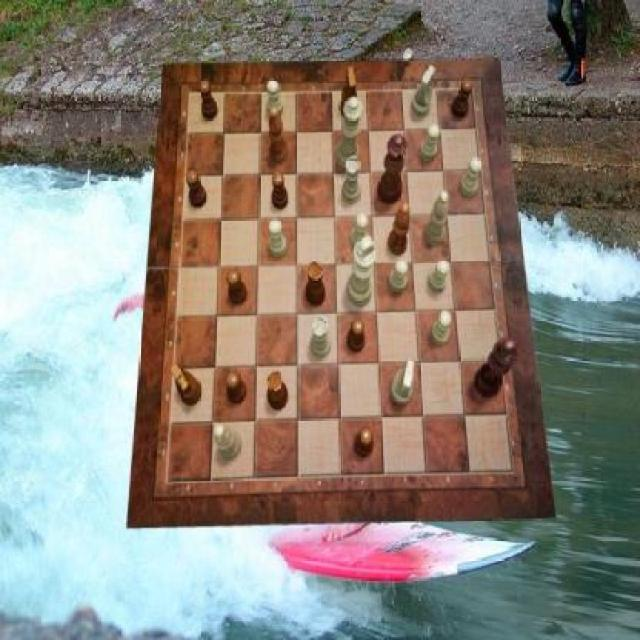bishop: (388, 202, 410, 256), (269, 106, 289, 165)
black-bishop: (476, 338, 518, 398)
black-king: (170, 363, 202, 405), (340, 68, 358, 119)
black-knight: (451, 80, 473, 120), (198, 80, 218, 120), (188, 169, 208, 207), (228, 269, 248, 304), (272, 171, 290, 209), (226, 370, 246, 404), (354, 426, 374, 459), (348, 319, 365, 353)
black-pawn: (377, 133, 407, 204)
black-queen: (306, 261, 326, 307), (268, 371, 288, 411)
black-rook: (424, 190, 448, 246), (214, 424, 241, 460)
white-bishop: (346, 235, 376, 308)
white-king: (412, 65, 436, 117), (391, 358, 415, 404)
white-knight: (460, 158, 482, 198), (431, 310, 452, 346), (428, 258, 450, 292), (420, 125, 440, 162), (389, 258, 409, 292), (269, 219, 287, 256), (351, 212, 368, 250), (268, 80, 284, 118)
white-pawn: (335, 97, 363, 171)
white-queen: (311, 315, 331, 358), (342, 157, 359, 205)
